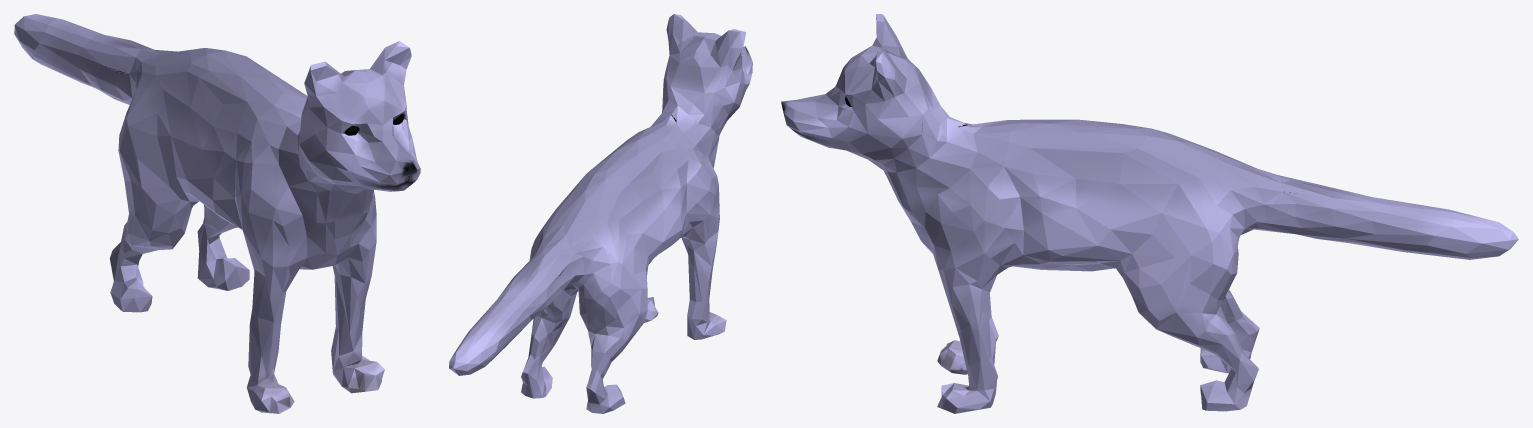
The model's file is ArticFox.obj.
3 views of the same model, side by side, from view 1: azimuth 30°, elevation 25°; view 2: azimuth 150°, elevation 25°; view 3: azimuth 270°, elevation 25° (orthographic). The views are drawn at different scales.
Parts seen in each view (by area): view 1: Artic_fox.001_Cube.001; view 2: Artic_fox.001_Cube.001; view 3: Artic_fox.001_Cube.001.
Part boxes in pixels (left/top/right/bottom): Artic_fox.001_Cube.001: left=14, top=14, right=420, bottom=413; Artic_fox.001_Cube.001: left=449, top=14, right=752, bottom=413; Artic_fox.001_Cube.001: left=781, top=14, right=1518, bottom=413.
Size of the model in its own units: 0.824 by 2.22 by 4.17.
